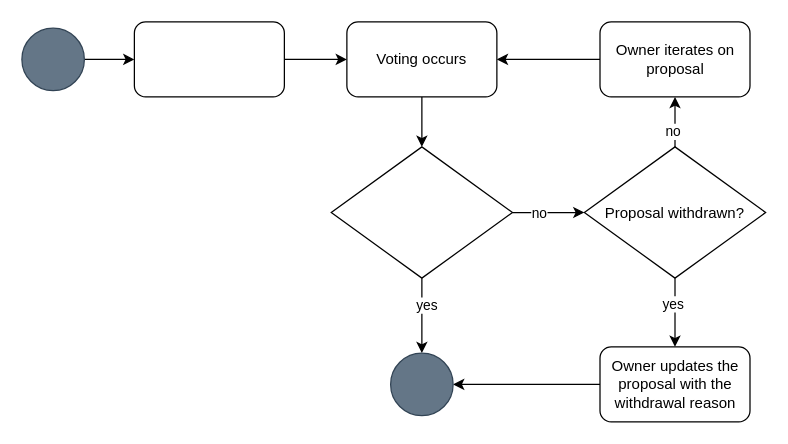
The diagram is 788 pixels wide and 444 high, and some of its shapes have lost their labels. The centre of each missing label's shape, as x and y in pixels:
"Owner creates design proposal" goes at point (208, 59).
"Proposal accepted?" goes at point (421, 212).
